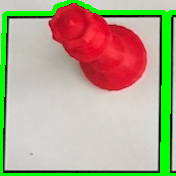Red Queen: (47, 2, 149, 94)
